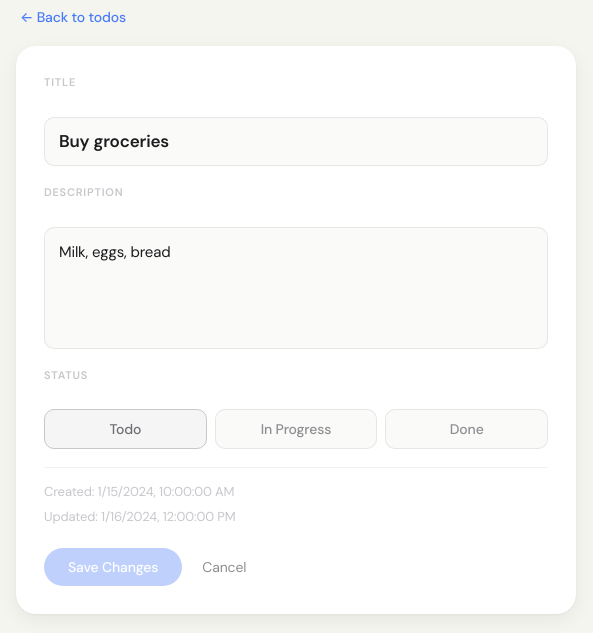
Test: TodoDetailPage › Save Changes button is enabled after editing the title
The width and height of the screenshot is (593, 633).
Replace the text in the field showing "Buy groceries" with "Buy organic groceries" at (296,141), box [44,116,548,166]
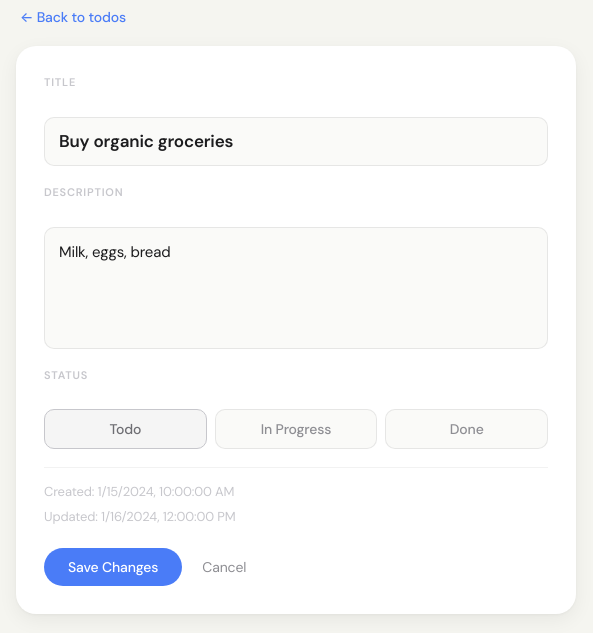
Now the button "Save Changes" is enabled, box [44,548,182,586]
